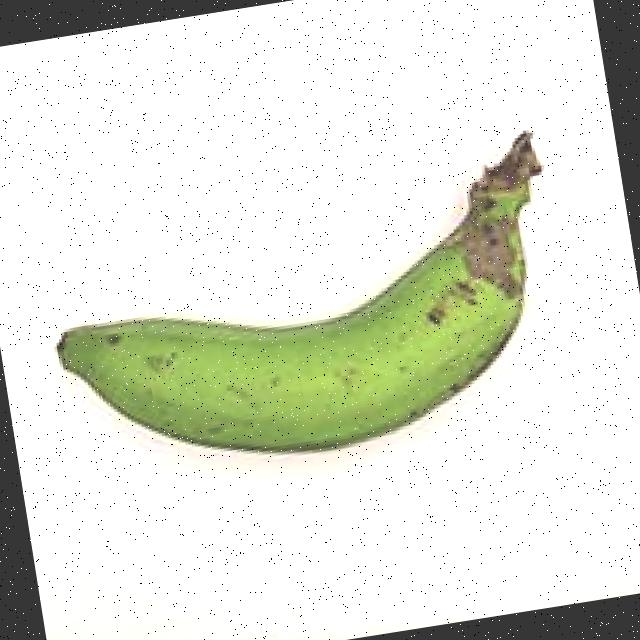Raw: (11, 119, 598, 510)
